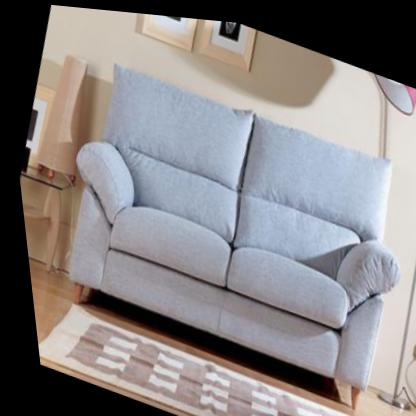Carpet: (30, 304, 354, 416)
Sofa: (23, 41, 416, 414)
